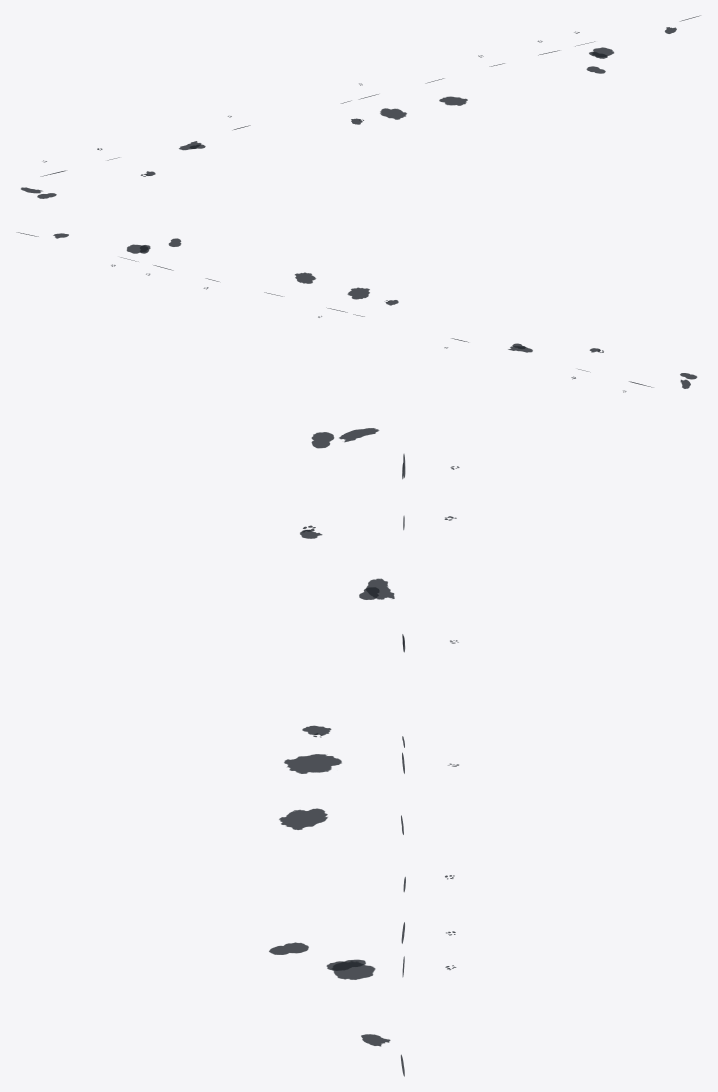
File: puddles3.glb
The picture shows the model from 3 angles, top to bottom: view 1: azimuth 30°, elevation 25°; view 2: azimuth 150°, elevation 25°; view 3: azimuth 270°, elevation 25°; orthographic projection. The views are drawn at different scales.
Visible parts, largest first — view 1: Puddles; view 2: Puddles; view 3: Puddles.
Boxes of the visible parts, x1,y1,x2,y2 form: Puddles: [21, 15, 700, 198]; Puddles: [16, 232, 697, 392]; Puddles: [269, 428, 459, 1076].
Bounding box in the file's own units: 88.42 × 0.1788 × 11.81.
Materials: 1 (1 with a texture image).
